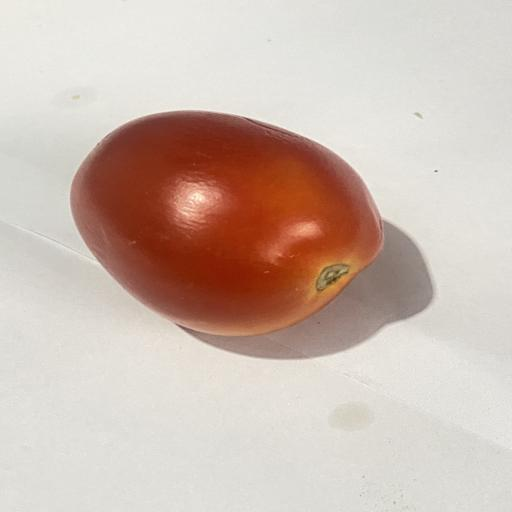ripe: (70, 111, 383, 335)
